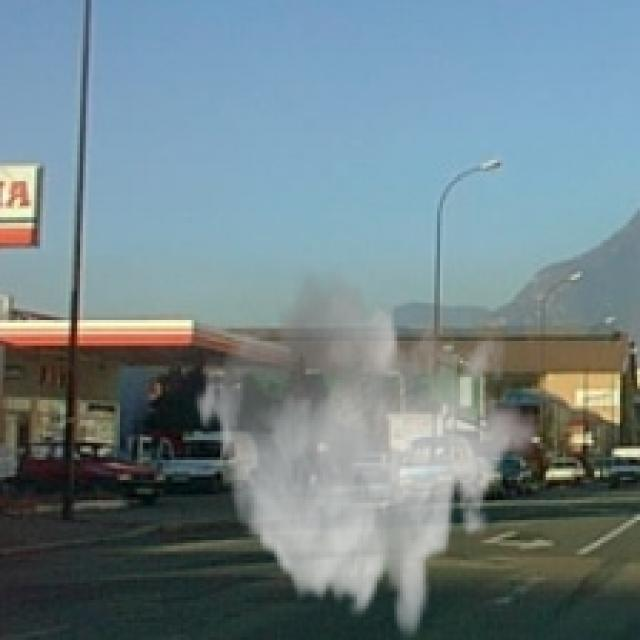Smoke: (191, 260, 543, 637)
